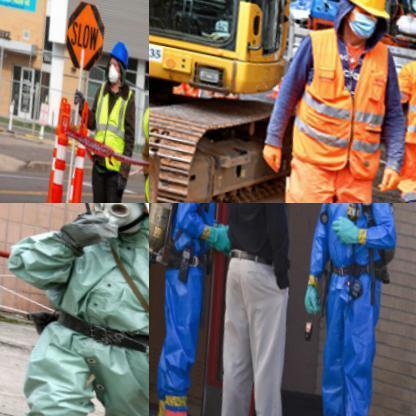vest: (0, 205, 148, 415), (282, 26, 402, 185), (292, 203, 410, 292), (149, 203, 235, 285), (76, 76, 139, 177), (380, 49, 415, 153), (120, 82, 148, 202)
